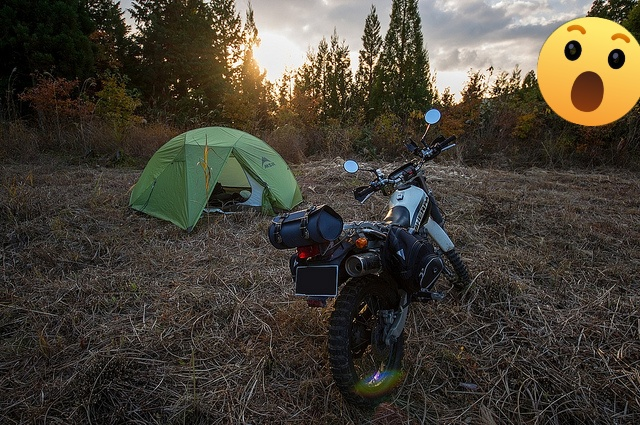wow: (537, 17, 640, 126)
